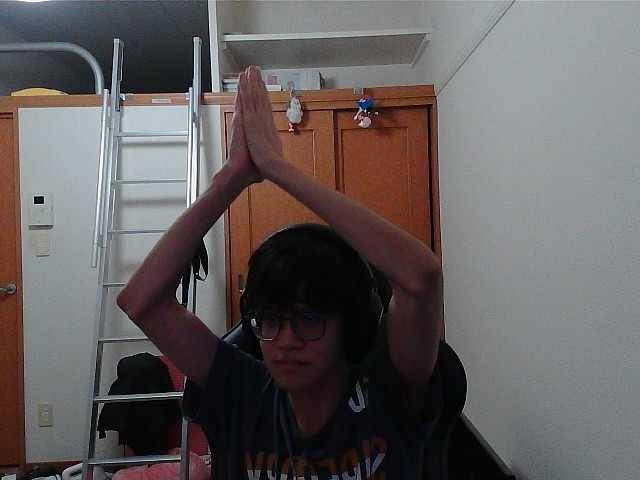pray: (240, 73, 273, 169)
